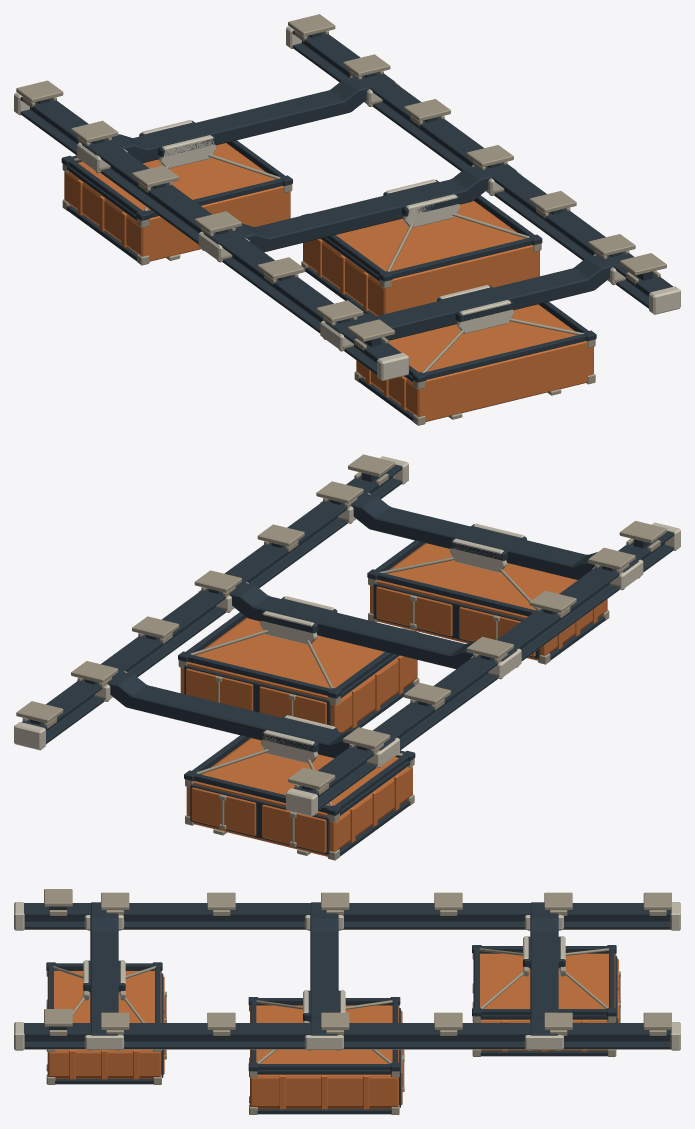
Rendered from interior-freight.glb.
3 renders of one model, top to bottom at view 1: azimuth 30°, elevation 25°; view 2: azimuth 150°, elevation 25°; view 3: azimuth 270°, elevation 25°, orthographic. The views are drawn at different scales.
Parts seen in each view (by area): view 1: nomad_interior_freight__navy_structural_steel, nomad_interior_freight__oxide_freight_enamel, nomad_interior_freight__rubbed_warm_alloy, nomad_interior_freight__warm_ivory_armour; view 2: nomad_interior_freight__navy_structural_steel, nomad_interior_freight__oxide_freight_enamel, nomad_interior_freight__rubbed_warm_alloy, nomad_interior_freight__warm_ivory_armour; view 3: nomad_interior_freight__navy_structural_steel, nomad_interior_freight__oxide_freight_enamel, nomad_interior_freight__rubbed_warm_alloy, nomad_interior_freight__warm_ivory_armour.
Part boxes in pixels (bbox=[...]): nomad_interior_freight__navy_structural_steel: bbox=[20, 30, 672, 421]; nomad_interior_freight__oxide_freight_enamel: bbox=[64, 143, 593, 421]; nomad_interior_freight__rubbed_warm_alloy: bbox=[16, 14, 666, 425]; nomad_interior_freight__warm_ivory_armour: bbox=[14, 26, 680, 380]; nomad_interior_freight__navy_structural_steel: bbox=[21, 464, 674, 856]; nomad_interior_freight__oxide_freight_enamel: bbox=[180, 543, 607, 856]; nomad_interior_freight__rubbed_warm_alloy: bbox=[16, 454, 673, 860]; nomad_interior_freight__warm_ivory_armour: bbox=[14, 456, 680, 816]; nomad_interior_freight__navy_structural_steel: bbox=[24, 902, 670, 1114]; nomad_interior_freight__oxide_freight_enamel: bbox=[47, 953, 618, 1109]; nomad_interior_freight__rubbed_warm_alloy: bbox=[24, 889, 671, 1114]; nomad_interior_freight__warm_ivory_armour: bbox=[14, 902, 680, 1050].
Bounding box in the file's own units: 89.5 × 31 × 188.
